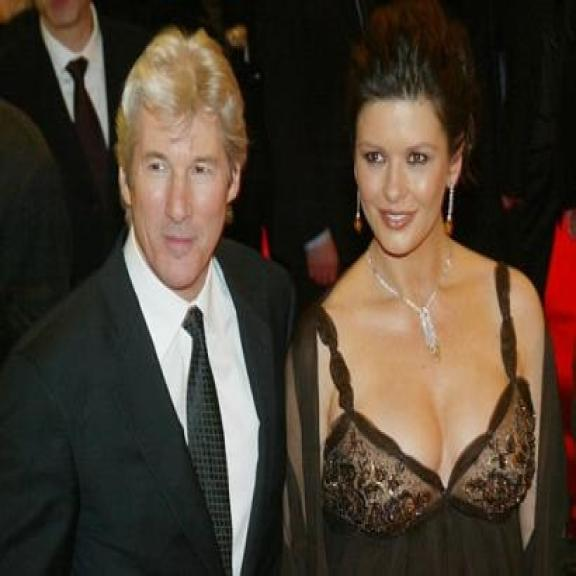face: (118, 99, 243, 289), (355, 86, 466, 258)
